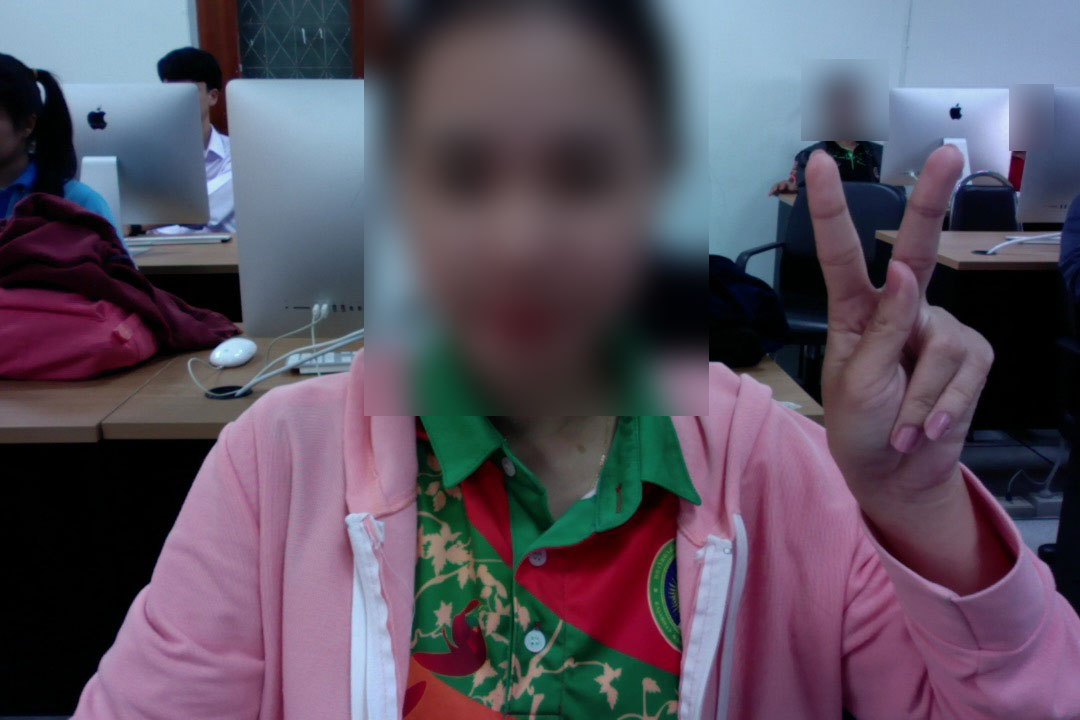ko: (785, 134, 1002, 511)
